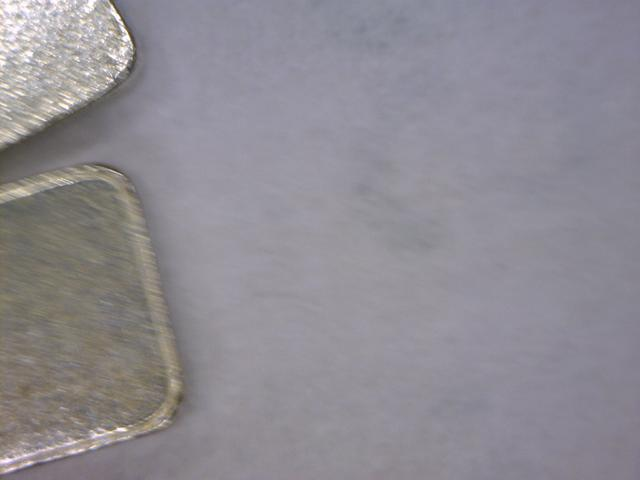nok: (7, 156, 195, 472)
